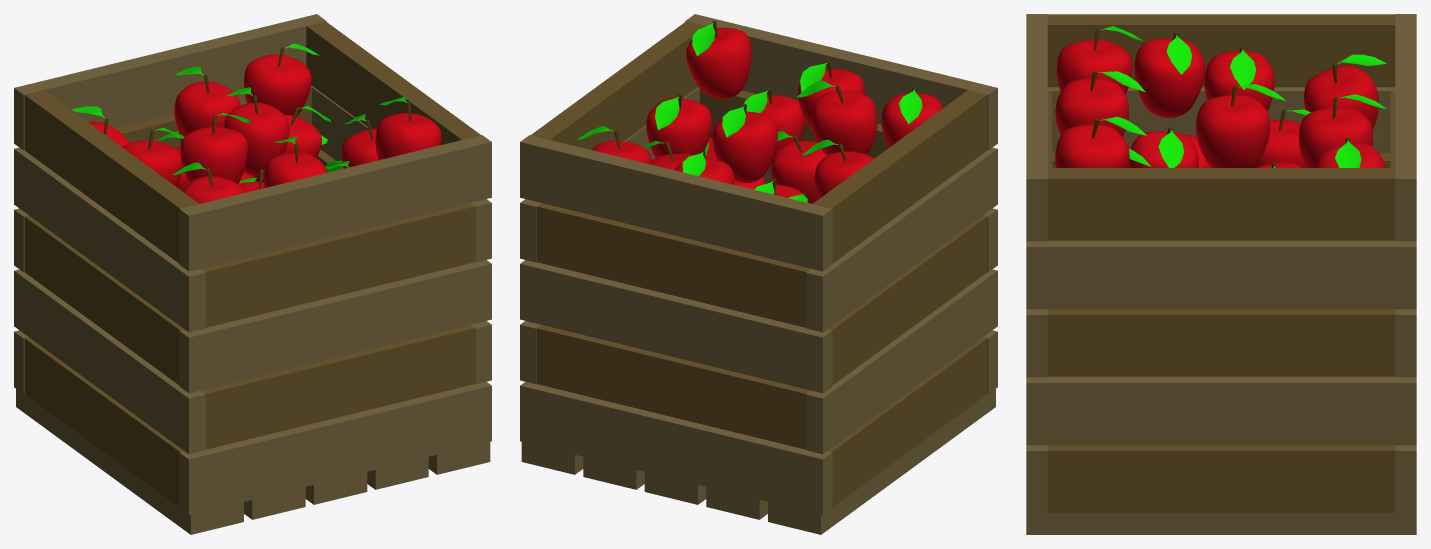
The model's file is Apple_Сrop.fbx.
3 views of the same model, side by side, from view 1: azimuth 30°, elevation 25°; view 2: azimuth 150°, elevation 25°; view 3: azimuth 270°, elevation 25° (orthographic). The views are drawn at different scales.
Parts seen in each view (by area): view 1: Apple_Сrop; view 2: Apple_Сrop; view 3: Apple_Сrop.
Part boxes in pixels (box(x1,y1,x2,y2)): Apple_Сrop: box(14, 14, 491, 534); Apple_Сrop: box(520, 14, 997, 534); Apple_Сrop: box(1026, 14, 1416, 534).
Bounding box in the file's own units: 37.5 × 37.5 × 41.21.
